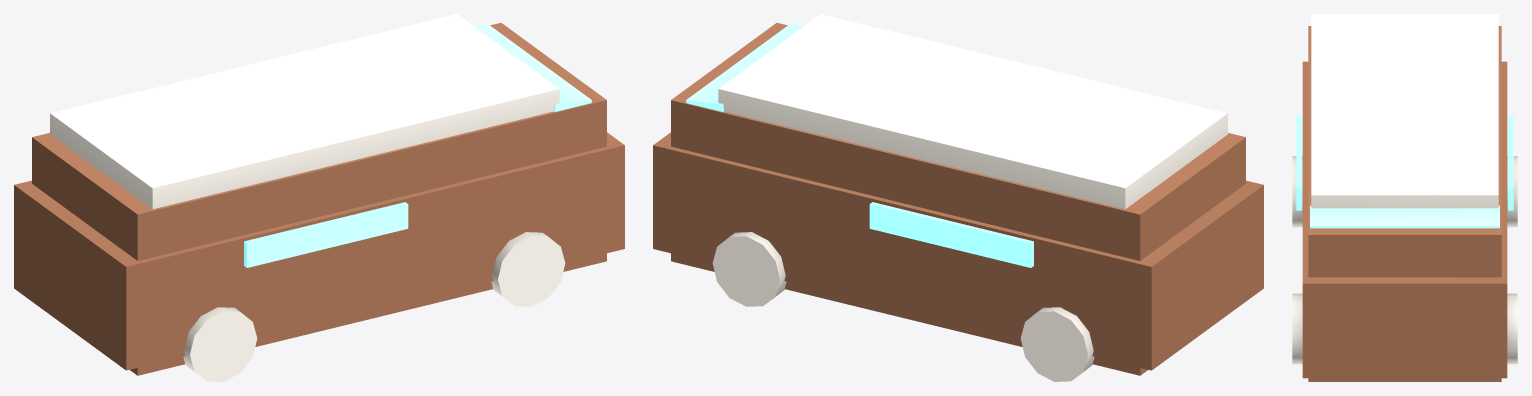
File: bus.glb
3 renders of one model, left to right at view 1: azimuth 30°, elevation 25°; view 2: azimuth 150°, elevation 25°; view 3: azimuth 270°, elevation 25°, orthographic. The views are drawn at different scales.
Parts seen in each view (by area): view 1: bus:near:surface:1, bus:near:surface:0, bus:far:surface:0, bus:near:surface:2; view 2: bus:near:surface:1, bus:near:surface:0, bus:far:surface:0, bus:near:surface:2; view 3: bus:near:surface:1, bus:near:surface:0, bus:far:surface:0, bus:near:surface:2.
Part boxes in pixels (x1,y1,x2,y2): bus:near:surface:1: (50, 14, 565, 381); bus:near:surface:0: (14, 132, 624, 370); bus:far:surface:0: (32, 23, 606, 375); bus:near:surface:2: (244, 24, 591, 267); bus:near:surface:1: (712, 14, 1227, 381); bus:near:surface:0: (653, 132, 1263, 370); bus:far:surface:0: (671, 23, 1245, 375); bus:near:surface:2: (686, 24, 1033, 267); bus:near:surface:1: (1292, 14, 1517, 364); bus:near:surface:0: (1302, 61, 1507, 378); bus:far:surface:0: (1308, 26, 1501, 381); bus:near:surface:2: (1296, 116, 1513, 228).
Size of the model in its own units: 6.8 by 2.62 by 2.92.
